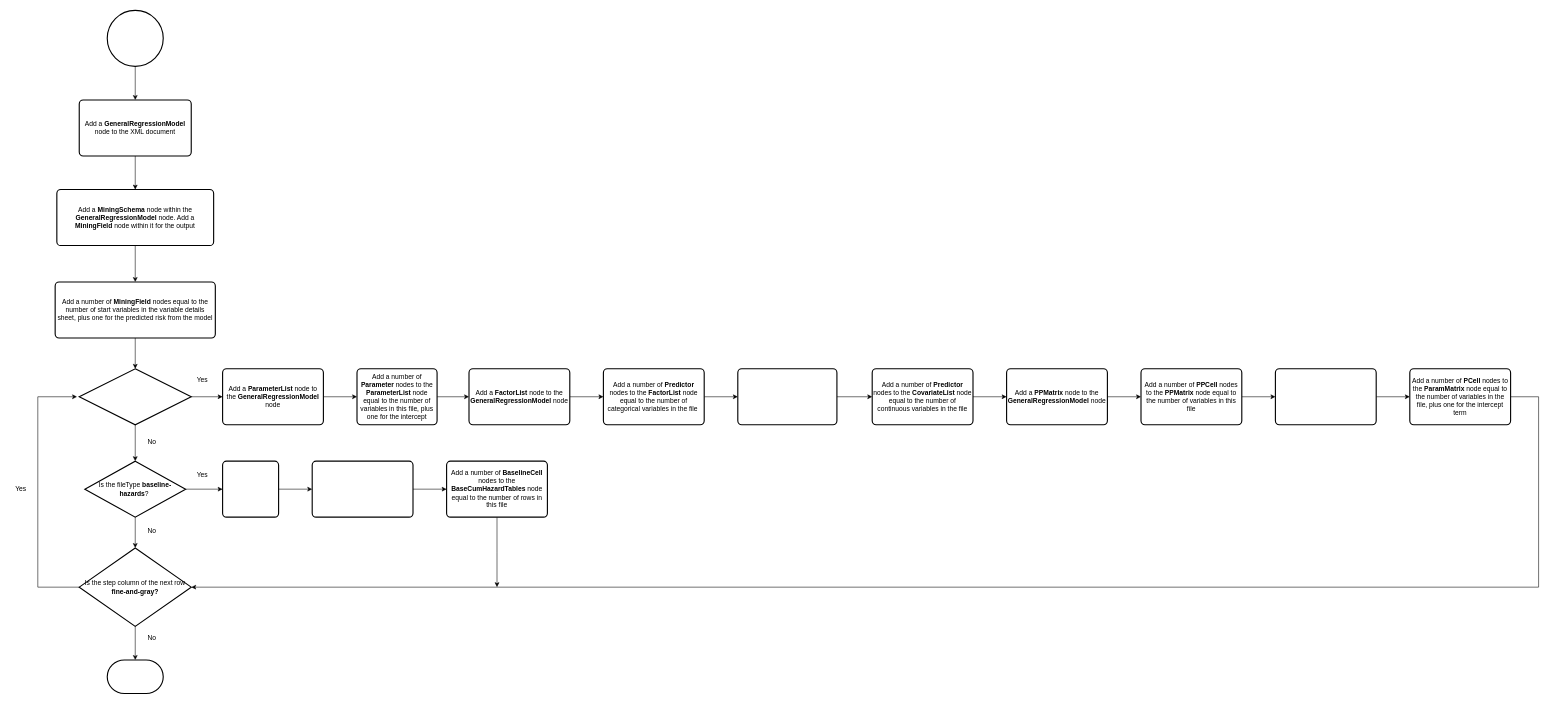
Some shapes in this 1553 by 703 pixel diagram are drawn without their labels. The shapes that lost their labels are listed below. From the top down, each one's centre as x and y in pixels, then its label:
At (135,38): "Begin".
At (135,396): "Is the fileType beta-coefficients?".
At (787,396): "Add a CovariateList node to the GeneralRegressionModel node".
At (1325,396): "Add a ParamMatrix node to the GeneralRegressionModel node".
At (250,488): "Get the rows for the time variable from the variable details sheet".
At (362,488): "Add a BaseCumHazardTables node to the GeneralRegressionModel node".
At (135,676): "End Parsing Fine and Gray Steps".
